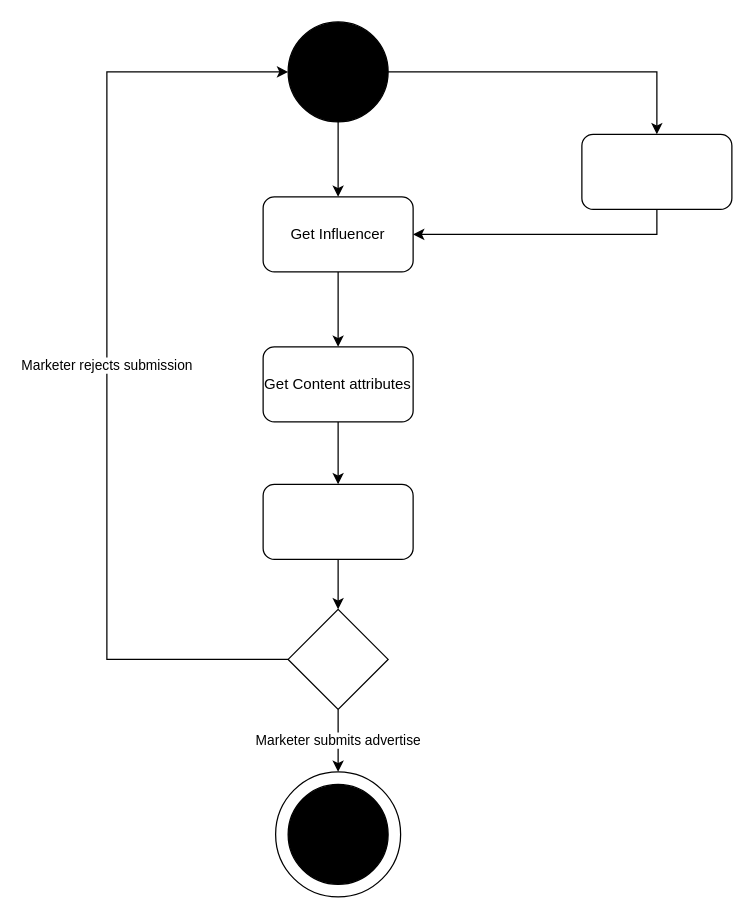
This 754x919 diagram has some shape labels left out. Each missing label, with the centre of its shape:
Get publishing date: the point at 337,521
Get user attributes for influencer suggestion: the point at 656,171
